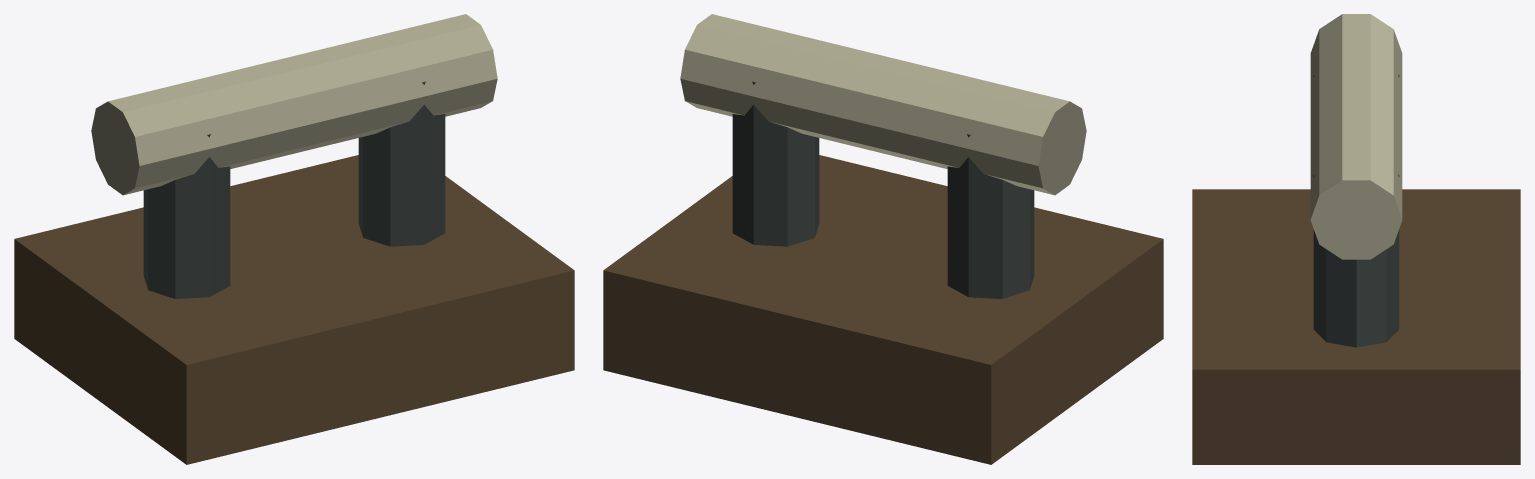
File: strange_lever.glb
3 renders of one model, left to right at view 1: azimuth 30°, elevation 25°; view 2: azimuth 150°, elevation 25°; view 3: azimuth 270°, elevation 25°, orthographic. The views are drawn at different scales.
Parts seen in each view (by area): view 1: strange_lever; view 2: strange_lever; view 3: strange_lever.
Boxes of the visible parts, box(x1,y1,x2,y2) form: strange_lever: box(14, 14, 574, 464); strange_lever: box(603, 14, 1163, 464); strange_lever: box(1192, 14, 1520, 464).
Bounding box in the file's own units: 0.65 × 0.4666 × 0.5.
